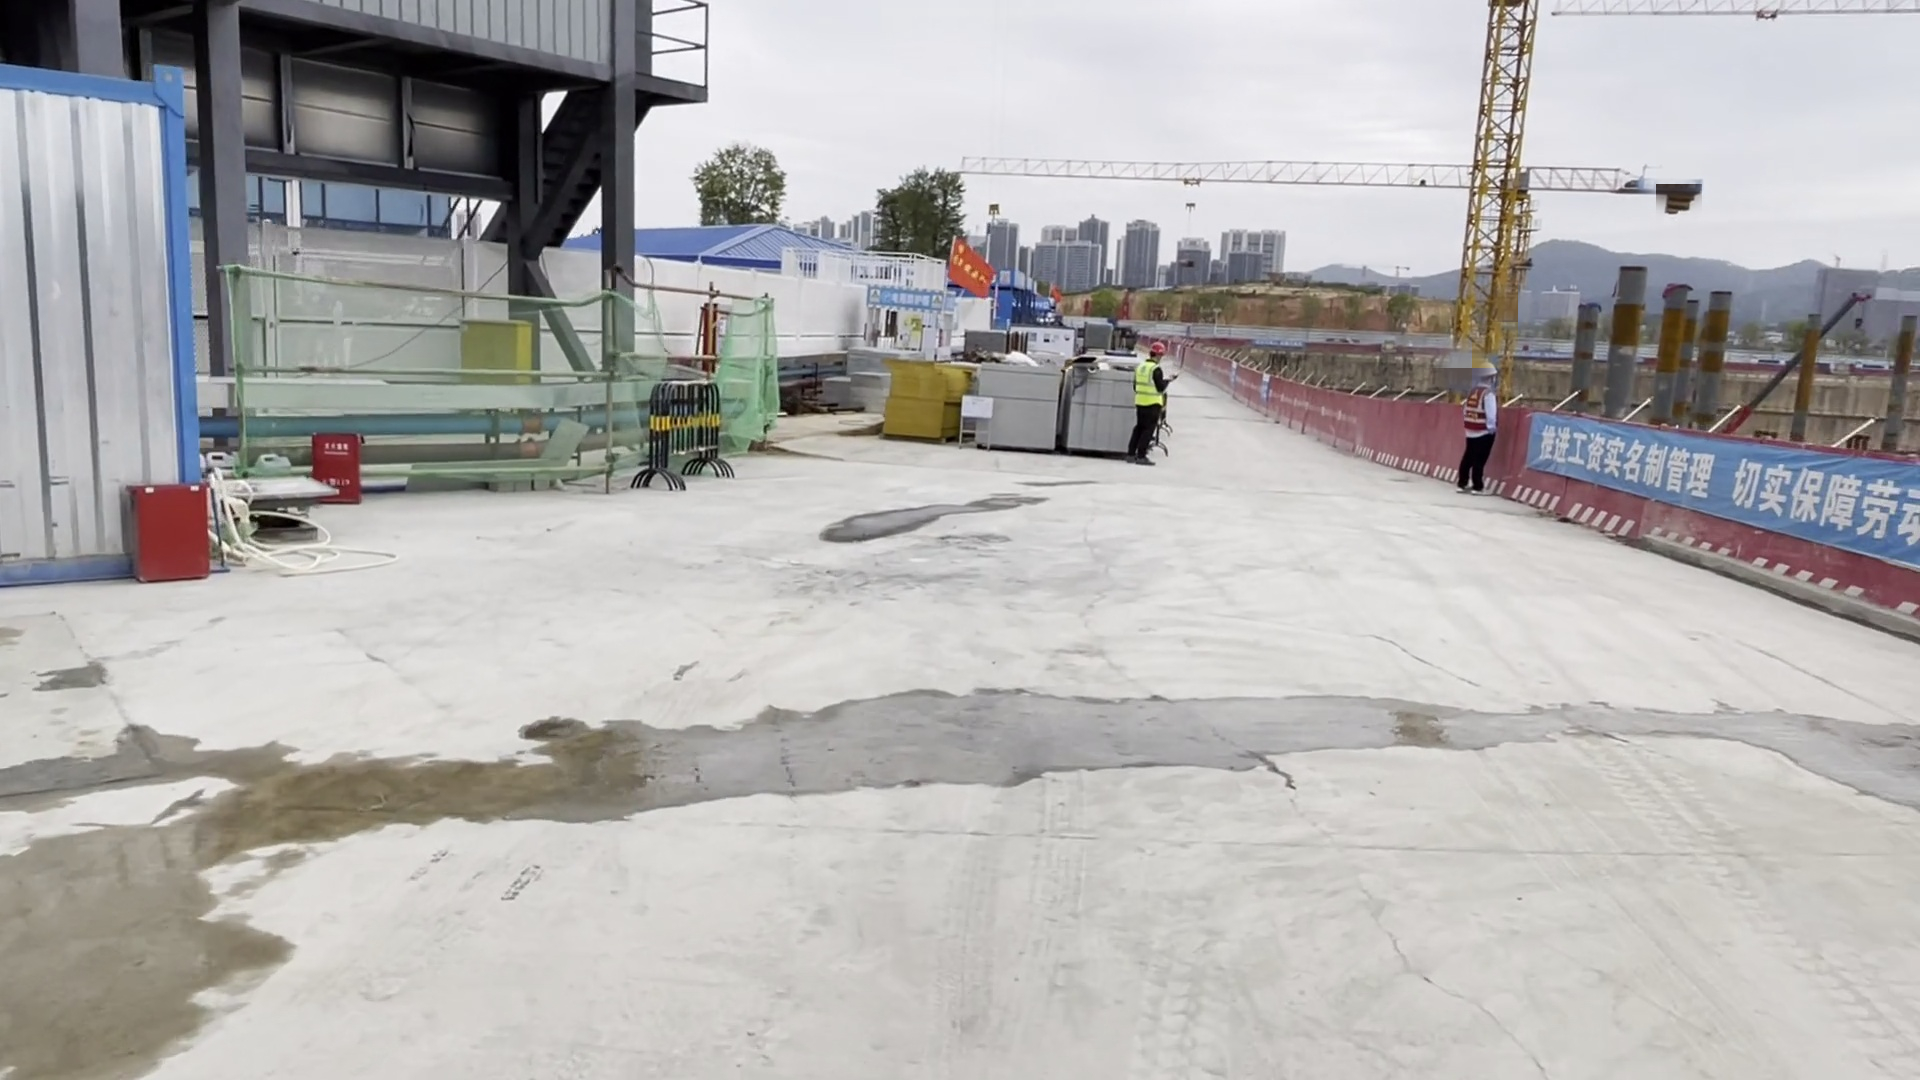brick: (974, 359, 1061, 457), (1064, 360, 1132, 454), (822, 340, 884, 413)
ebox: (456, 310, 544, 390)
helmet: (1475, 361, 1500, 379), (1149, 341, 1168, 360)
hook: (987, 202, 1001, 219), (1183, 202, 1197, 214)
person: (1450, 360, 1524, 498), (1122, 338, 1181, 468)
slogan: (1515, 404, 1920, 570), (866, 276, 969, 316)
vest: (1461, 382, 1499, 441), (1134, 359, 1165, 407)
